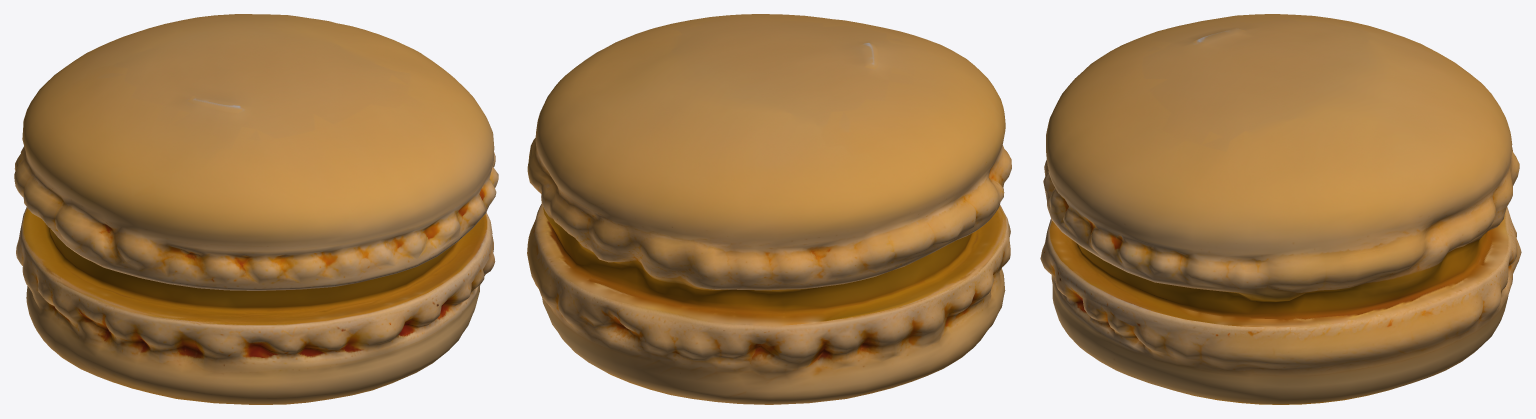
3 views of the same model, side by side, from view 1: azimuth 30°, elevation 25°; view 2: azimuth 150°, elevation 25°; view 3: azimuth 270°, elevation 25° (orthographic).
Parts seen in each view (by area): view 1: texture_pbr_v128.001; view 2: texture_pbr_v128.001; view 3: texture_pbr_v128.001.
Boxes of the visible parts, x1=… form: texture_pbr_v128.001: x1=14, y1=14, x2=498, y2=404; texture_pbr_v128.001: x1=527, y1=14, x2=1011, y2=404; texture_pbr_v128.001: x1=1040, y1=14, x2=1521, y2=404.
Bounding box in the file's own units: 110 × 65.43 × 111.
Materials: 1 (1 with a texture image).
